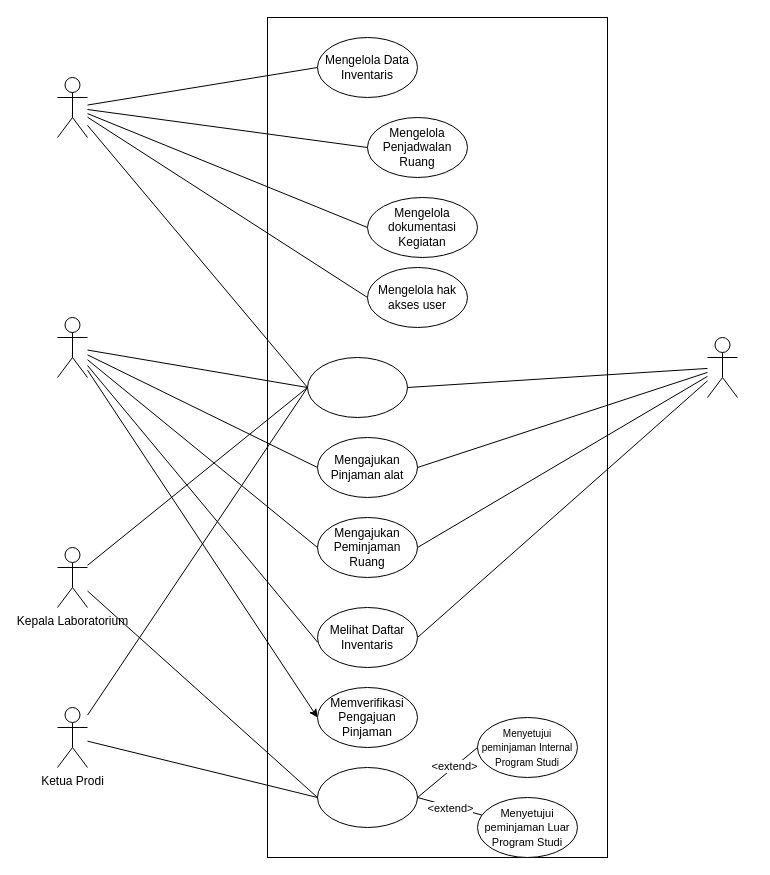
Some shapes in this 770 by 875 pixel diagram are drawn without their labels. Here are the shapes that lost their labels. From the top down, the box of each, then its label:
(56, 76, 88, 138): Laboran
(56, 316, 88, 378): Asisten
(706, 336, 738, 398): Mahasiswa
(306, 356, 408, 418): Login dan Logout
(316, 766, 418, 828): Menyetujui peminjaman
